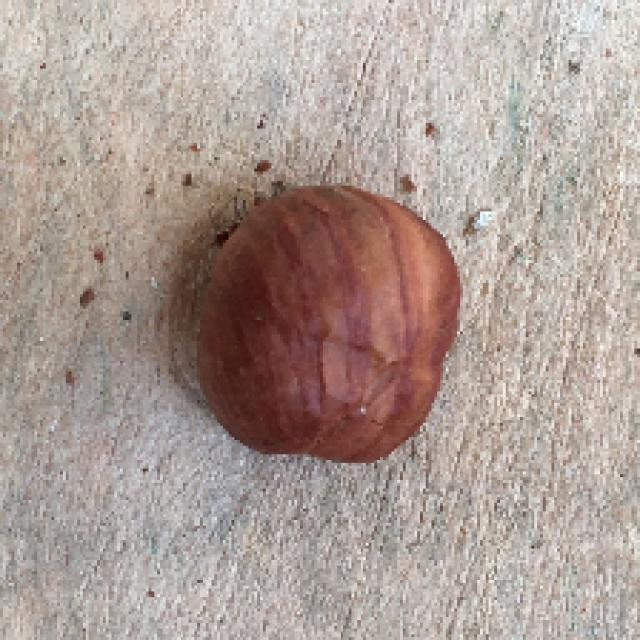hazelnut: (192, 170, 468, 464)
